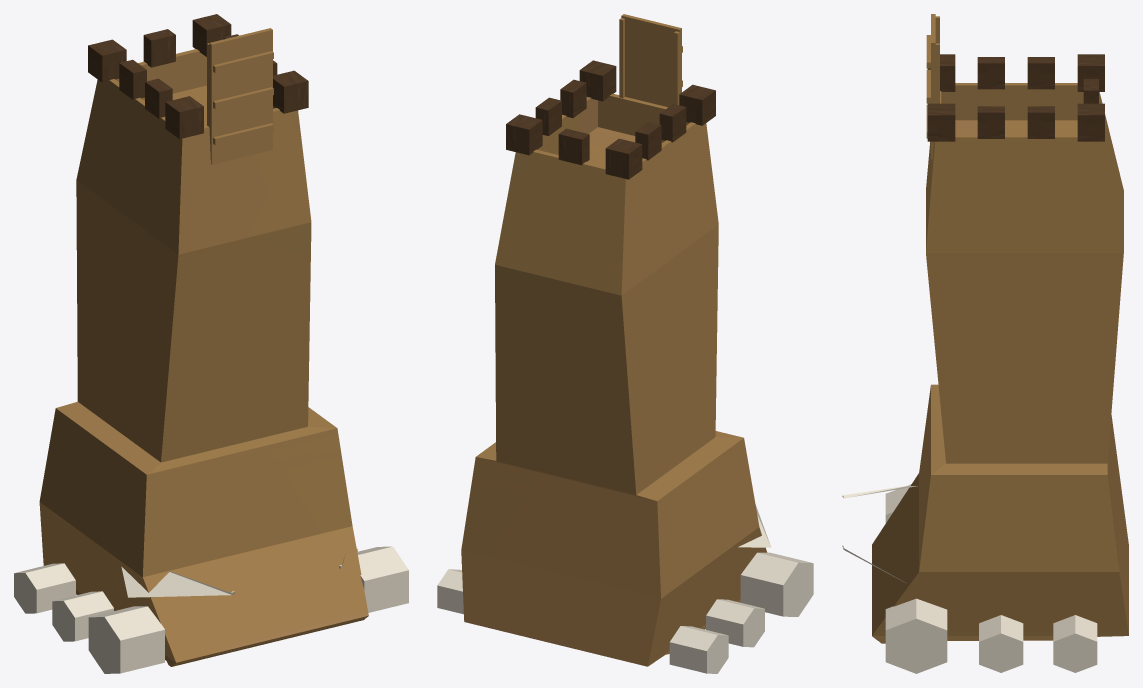
Rendered from ae_siege_tower_open_large_lod2.glb.
3 renders of one model, left to right at view 1: azimuth 30°, elevation 25°; view 2: azimuth 150°, elevation 25°; view 3: azimuth 270°, elevation 25°, orthographic. The views are drawn at different scales.
Parts seen in each view (by area): view 1: siege_tower_open_large, drawbridge; view 2: siege_tower_open_large, drawbridge; view 3: siege_tower_open_large, drawbridge.
Boxes of the visible parts, bbox=[...] form: siege_tower_open_large: bbox=[14, 14, 408, 673]; drawbridge: bbox=[207, 28, 273, 164]; siege_tower_open_large: bbox=[437, 60, 813, 673]; drawbridge: bbox=[619, 14, 682, 107]; siege_tower_open_large: bbox=[842, 54, 1128, 673]; drawbridge: bbox=[926, 14, 939, 159].
Bounding box in the file's own units: 67.27 × 133 × 59.71.
Materials: 3 (2 with a texture image).
